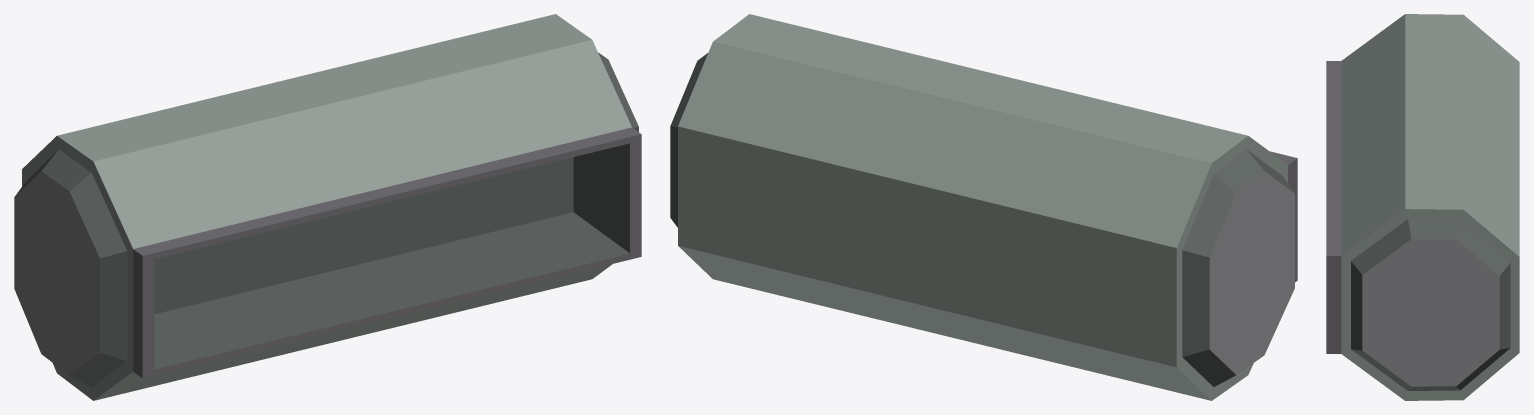
The model's file is Padlock_Main.glb.
3 views of the same model, side by side, from view 1: azimuth 30°, elevation 25°; view 2: azimuth 150°, elevation 25°; view 3: azimuth 270°, elevation 25° (orthographic). The views are drawn at different scales.
Visible parts, largest first — view 1: Padlock_01; view 2: Padlock_01; view 3: Padlock_01.
Part boxes in pixels (x1,y1,x2,y2): Padlock_01: (14, 14, 641, 400); Padlock_01: (670, 14, 1297, 400); Padlock_01: (1326, 14, 1519, 400).
Size of what is drawn, in the model's own units: 0.5664 by 0.2404 by 0.2198.
1 material, 1 textured.
